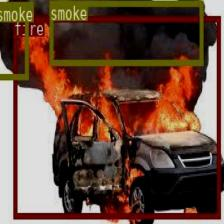fire: (13, 15, 220, 218)
smoke: (49, 0, 202, 64), (0, 0, 27, 79)
